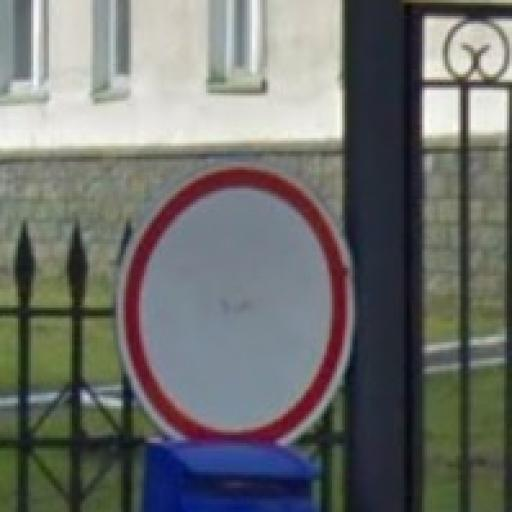traffic_sign: (119, 160, 356, 452)
